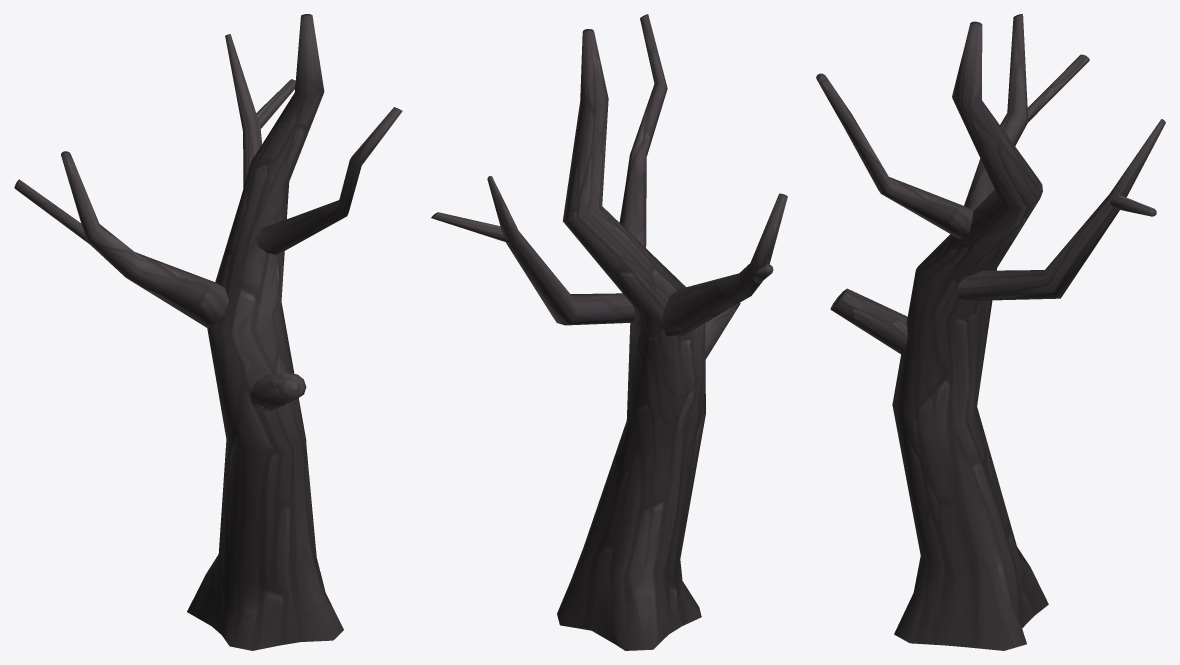
File: Tree5.glb
3 views of the same model, side by side, from view 1: azimuth 30°, elevation 25°; view 2: azimuth 150°, elevation 25°; view 3: azimuth 270°, elevation 25° (orthographic). The views are drawn at different scales.
Parts seen in each view (by area): view 1: oak_dead_3.001_oak_0; view 2: oak_dead_3.001_oak_0; view 3: oak_dead_3.001_oak_0.
Part boxes in pixels (x1=…): oak_dead_3.001_oak_0: x1=14, y1=14, x2=402, y2=650; oak_dead_3.001_oak_0: x1=431, y1=14, x2=787, y2=650; oak_dead_3.001_oak_0: x1=816, y1=14, x2=1165, y2=650.
Size of the model in its own units: 0.8358 by 1.5 by 0.767.
Materials: 1 (1 with a texture image).
